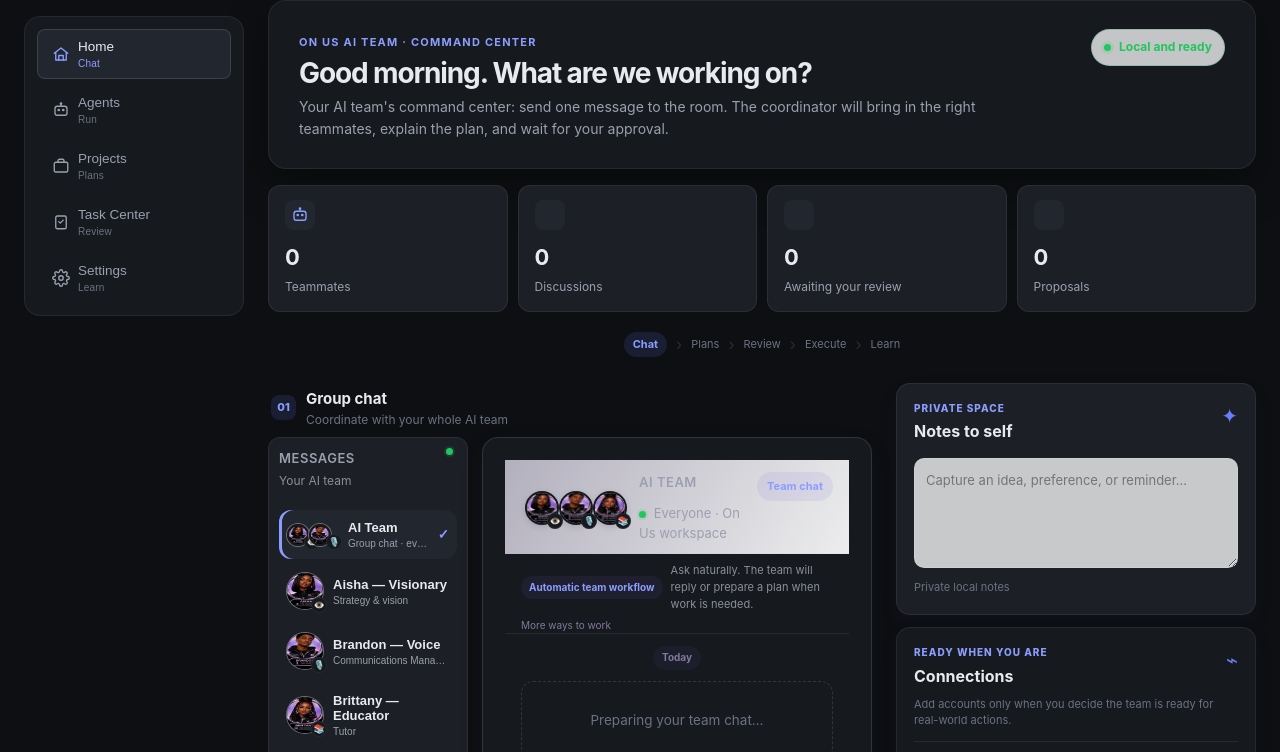
Phase 4 — Task Center, Settings, conversation-to-task › renders Settings with sample-data and preferences sections
Step 1. Click the button "Settings Learn" → (134, 278), box [37, 253, 231, 303]
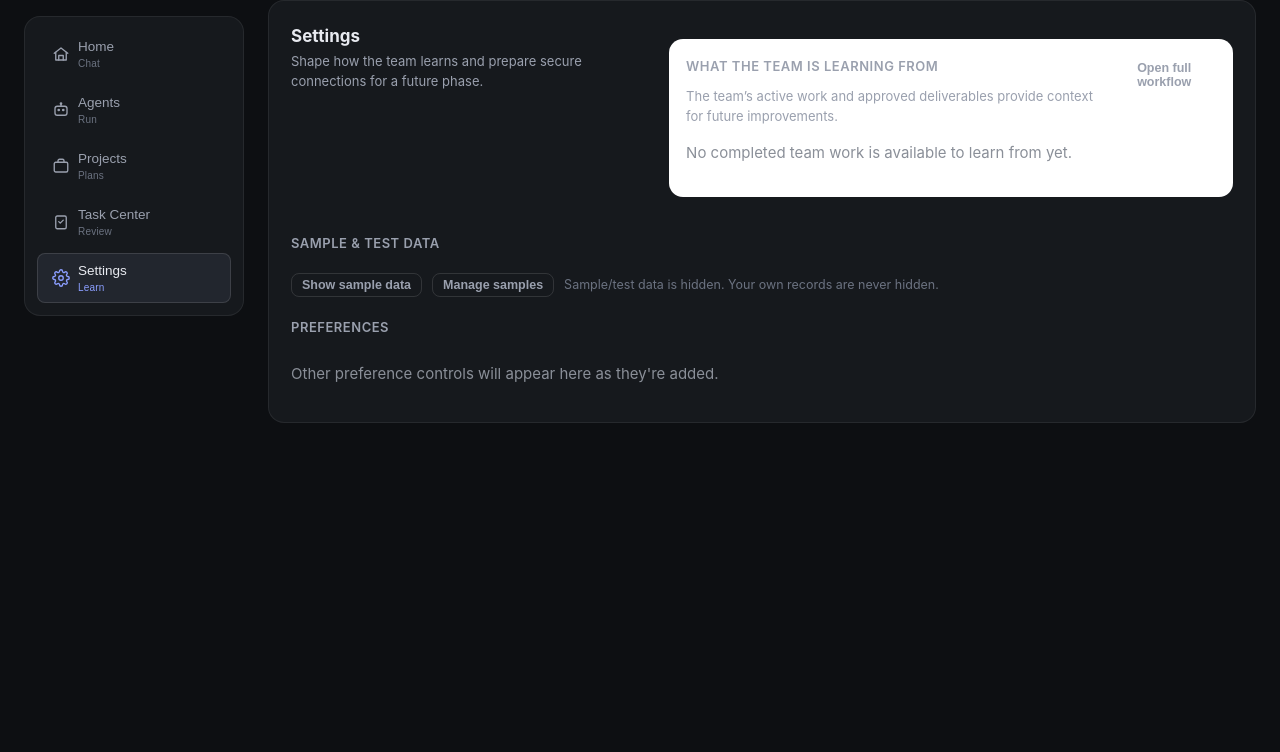
Result: the heading "Settings" is shown at [291, 26, 360, 46]
Result: the heading "Sample & test data" is shown at [291, 233, 440, 253]
Result: the heading "Preferences" is shown at [291, 317, 389, 337]
